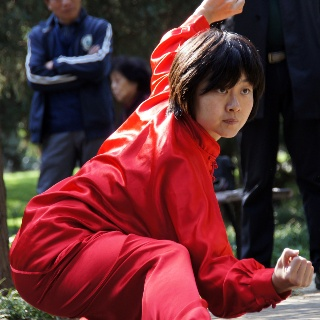without_mask: (192, 51, 253, 138), (110, 66, 137, 104)
